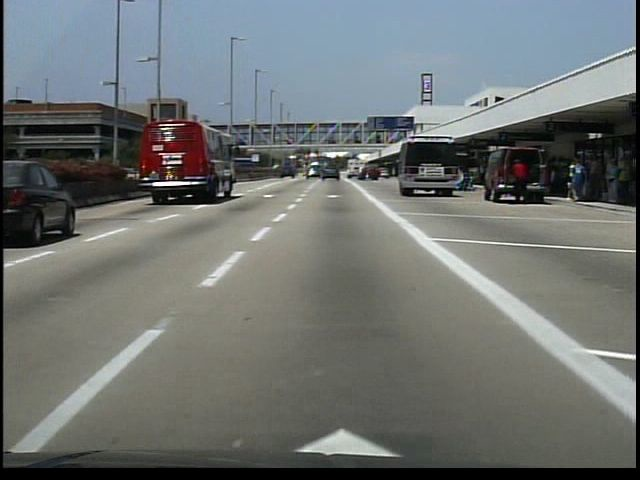person: (511, 154, 531, 208)
